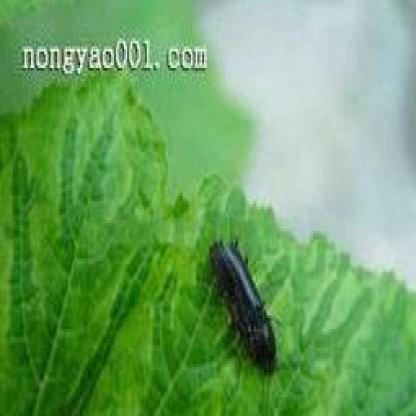armyworm: (208, 224, 282, 378)
